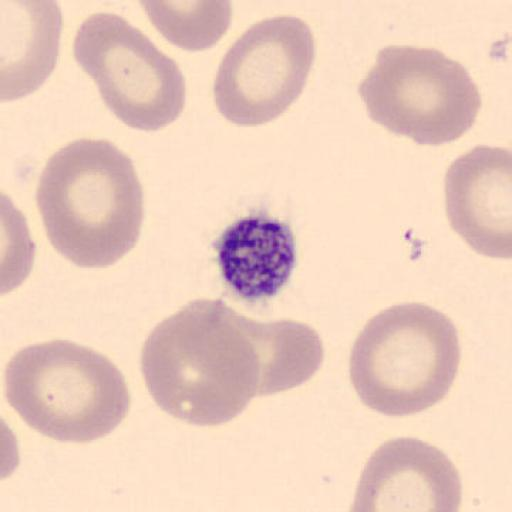Platelet: (211, 210, 301, 306)
RBC: (140, 297, 261, 428), (34, 134, 145, 272), (3, 336, 132, 446), (72, 11, 188, 133), (346, 300, 463, 419), (357, 44, 482, 148), (212, 14, 316, 128), (228, 299, 326, 398), (347, 433, 465, 512), (442, 142, 512, 261), (0, 0, 64, 102), (137, 0, 234, 52), (1, 192, 37, 297), (140, 0, 234, 24), (0, 386, 20, 484), (2, 414, 22, 484)
